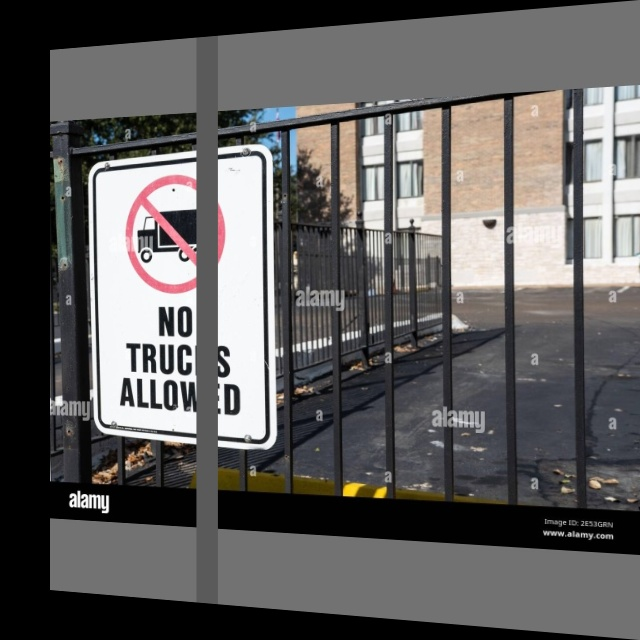Truck_Prohibited: (119, 162, 230, 303)
